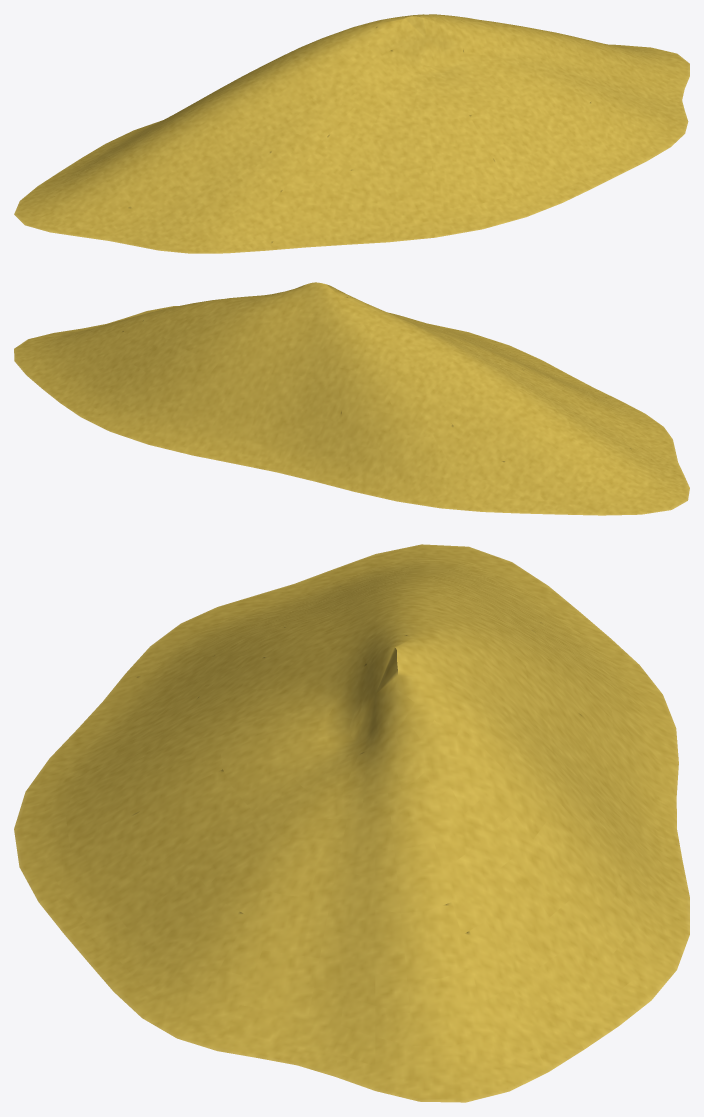
The model's file is underworld-ground-sulfur-drift-bank.glb.
3 views of the same model, one above another, from view 1: azimuth 30°, elevation 25°; view 2: azimuth 150°, elevation 25°; view 3: azimuth 270°, elevation 25° (orthographic). The views are drawn at different scales.
Visible parts, largest first — view 1: wind-deposit; view 2: wind-deposit; view 3: wind-deposit.
Part boxes in pixels (<box>): wind-deposit: <box>14,14,689,253</box>; wind-deposit: <box>14,282,689,515</box>; wind-deposit: <box>14,544,689,1102</box>.
Size of the model in its own units: 4.78 by 0.9172 by 2.45.
1 material, 1 textured.
